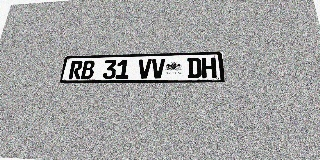plate: (60, 52, 224, 83)
